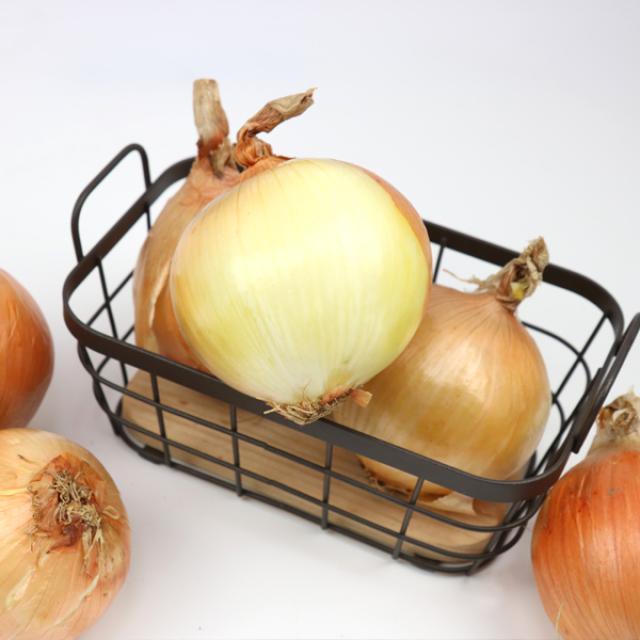onion: (168, 151, 435, 415)
